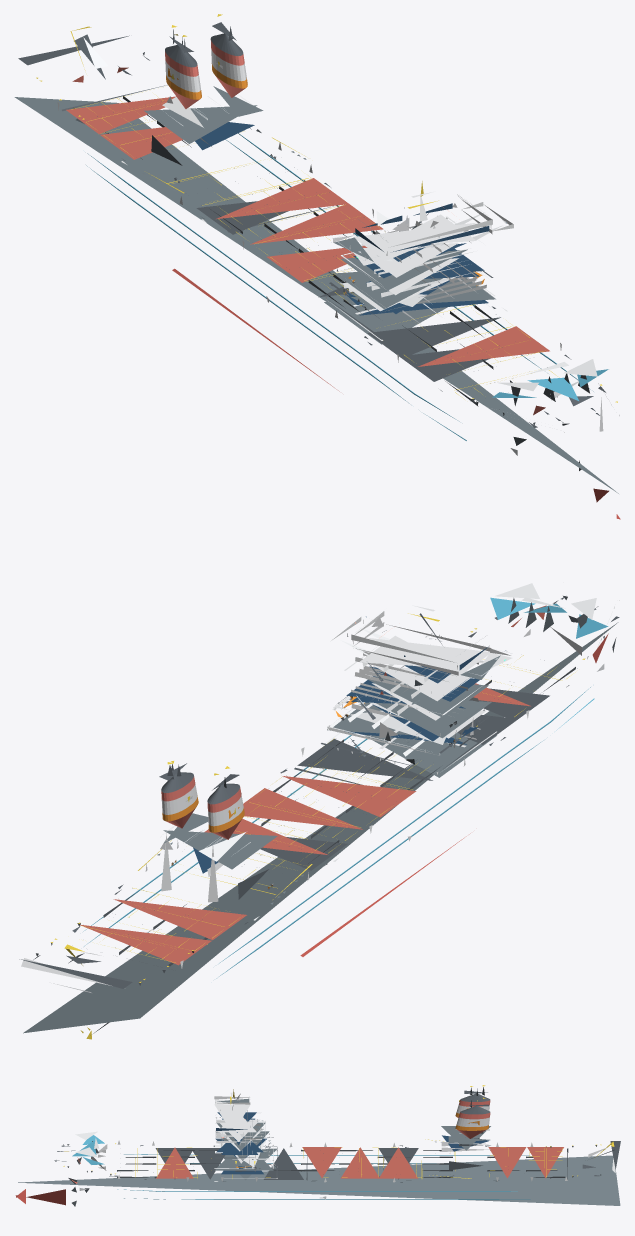
File: ship_24.glb
3 renders of one model, top to bottom at view 1: azimuth 30°, elevation 25°; view 2: azimuth 150°, elevation 25°; view 3: azimuth 270°, elevation 25°, orthographic. The views are drawn at different scales.
Parts seen in each view (by area): view 1: TrueHelm_Ship_24; view 2: TrueHelm_Ship_24; view 3: TrueHelm_Ship_24.
Boxes of the visible parts, <box> form: TrueHelm_Ship_24: <box>14,14,620,519</box>; TrueHelm_Ship_24: <box>19,583,619,1039</box>; TrueHelm_Ship_24: <box>15,1085,620,1206</box>.
Size of the model in its own units: 0.1429 by 0.1933 by 0.8995.
